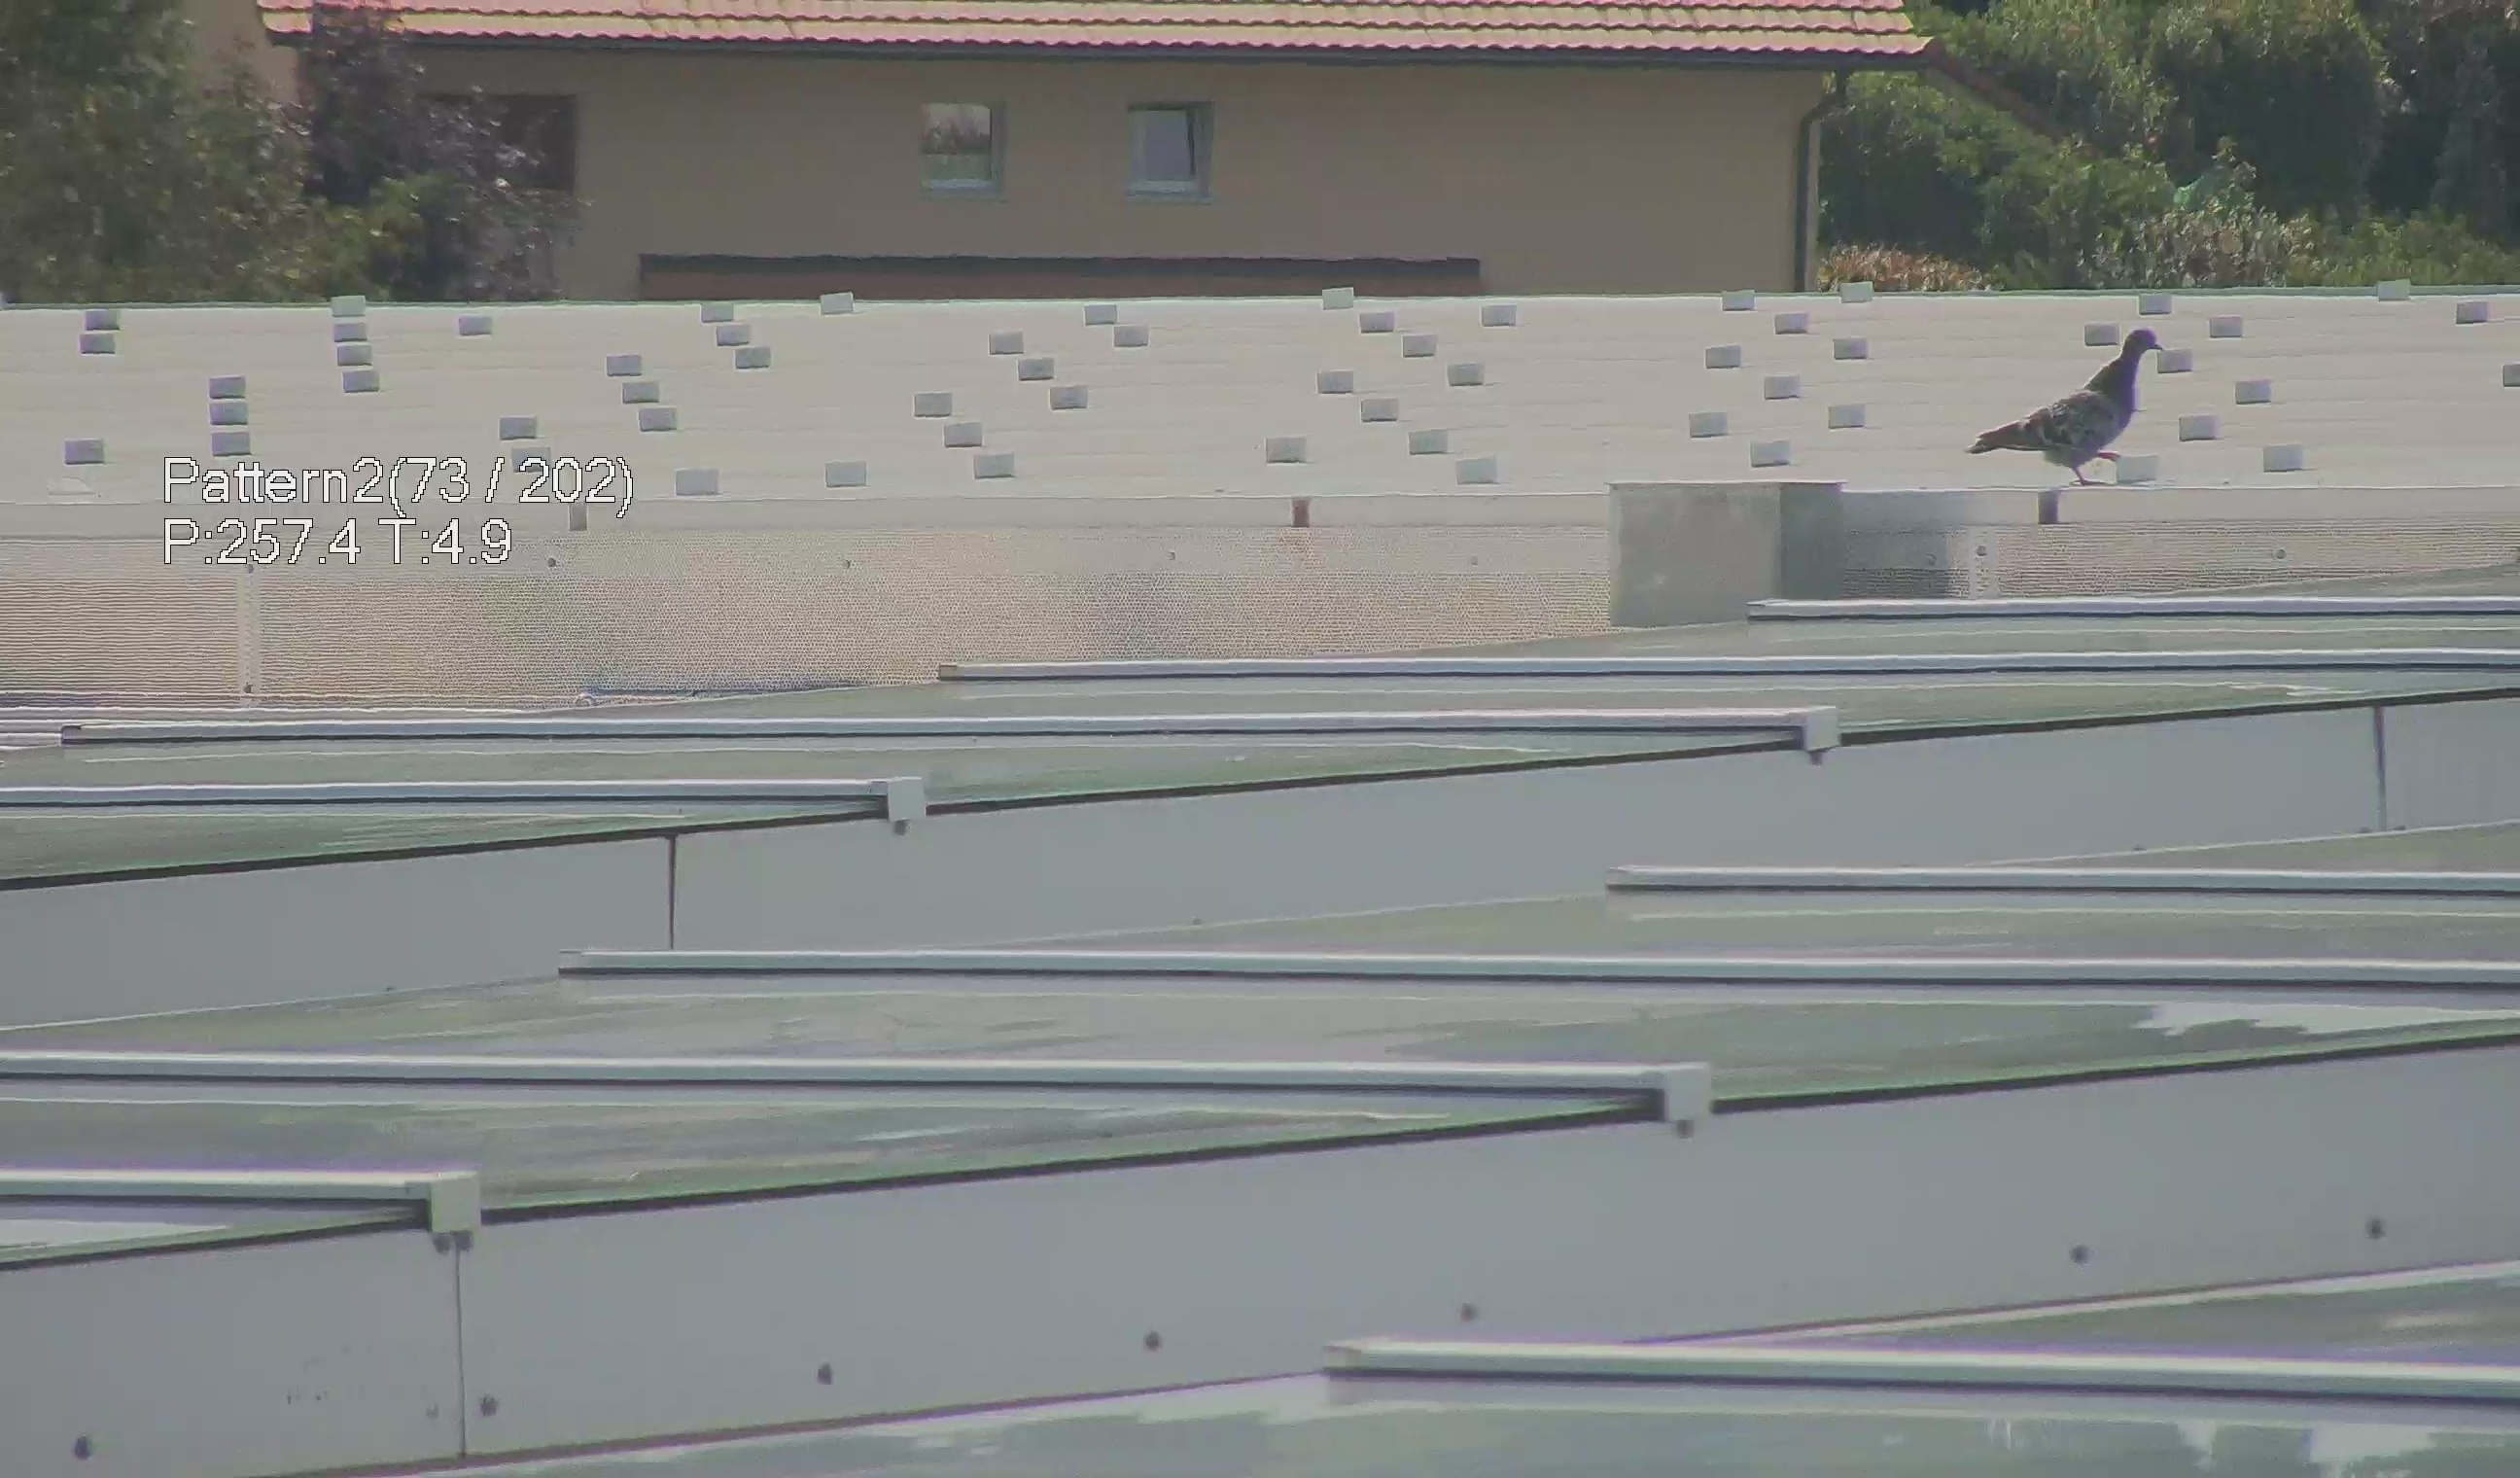Pigeon: (1973, 315, 2186, 494)
